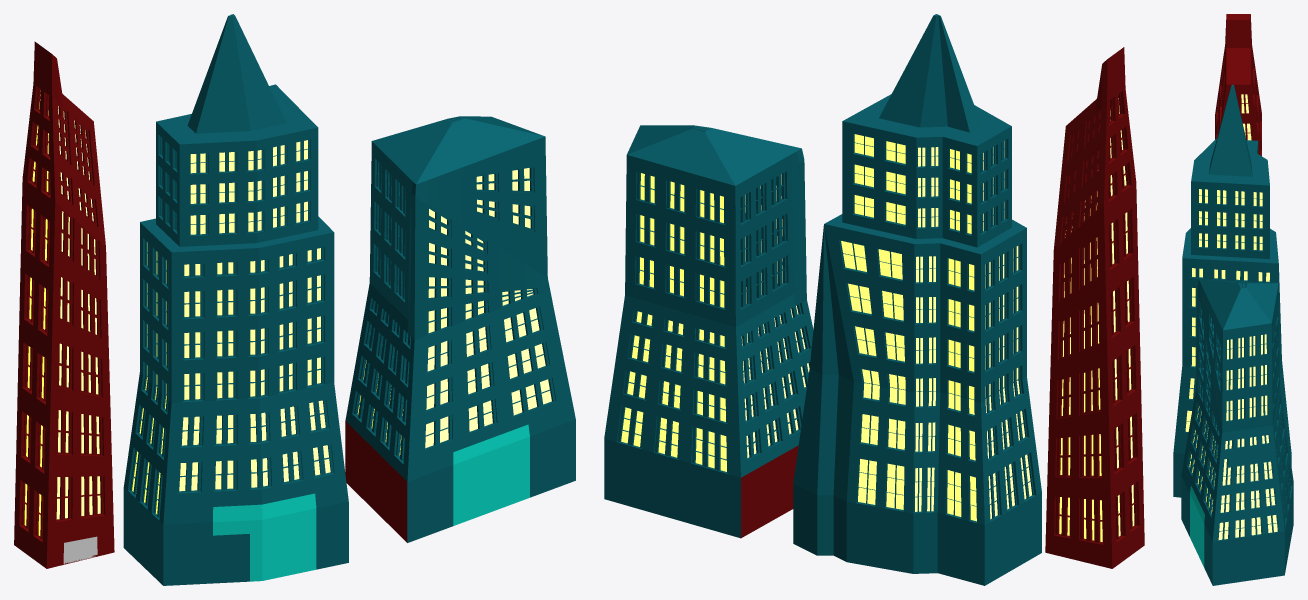
Rendered from alexandria_complex.fbx.
The picture shows the model from 3 angles, left to right: view 1: azimuth 30°, elevation 25°; view 2: azimuth 150°, elevation 25°; view 3: azimuth 270°, elevation 25°; orthographic projection. The views are drawn at different scales.
Parts seen in each view (by area): view 1: alexandria_complex; view 2: alexandria_complex; view 3: alexandria_complex.
Boxes of the visible parts, bbox=[...] form: alexandria_complex: bbox=[14, 14, 575, 585]; alexandria_complex: bbox=[604, 14, 1144, 585]; alexandria_complex: bbox=[1173, 14, 1293, 585].
Size of the model in its own units: 2882 by 2848 by 792.
